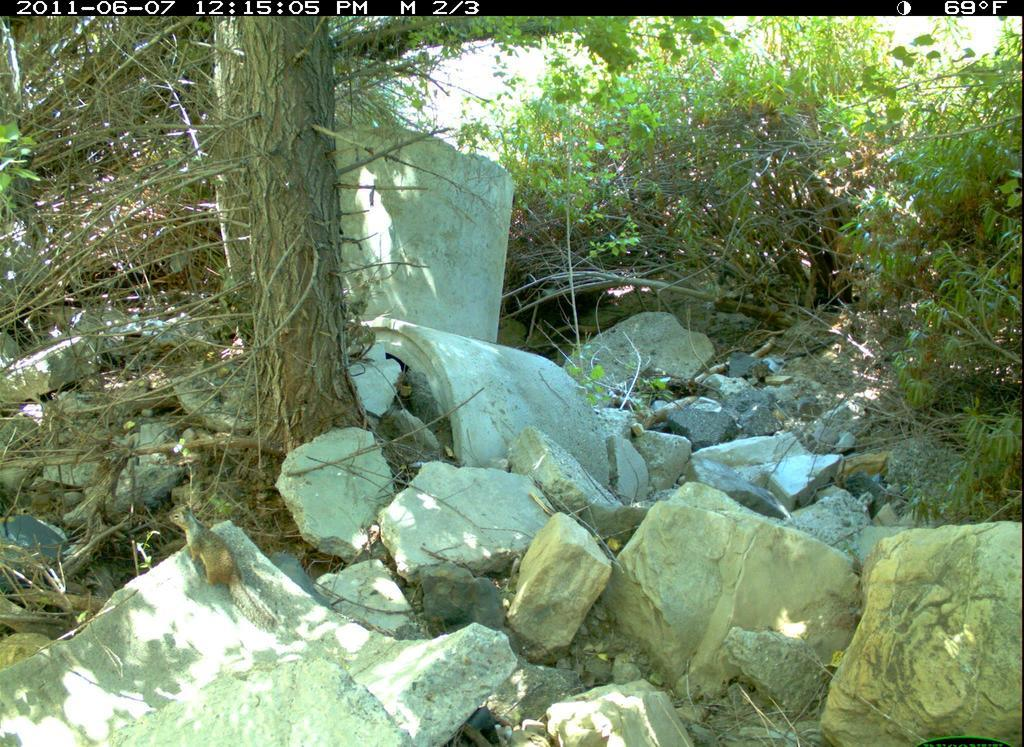squirrel: (153, 493, 277, 644)
